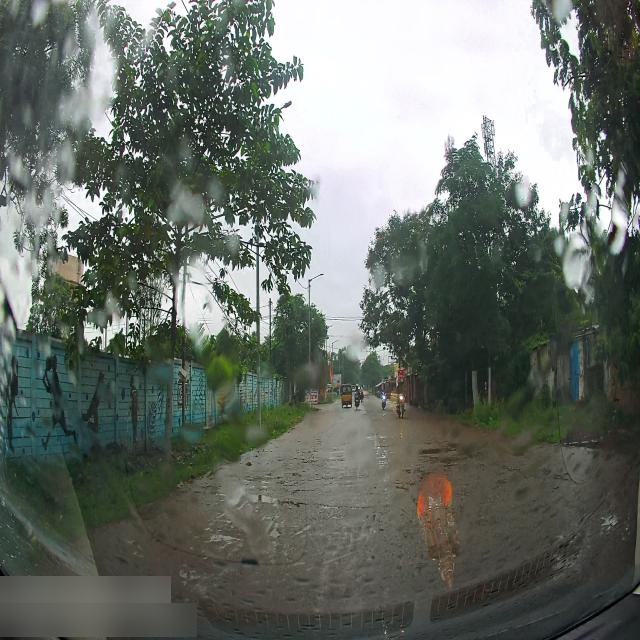pothole: (243, 488, 304, 514), (413, 443, 462, 465)
